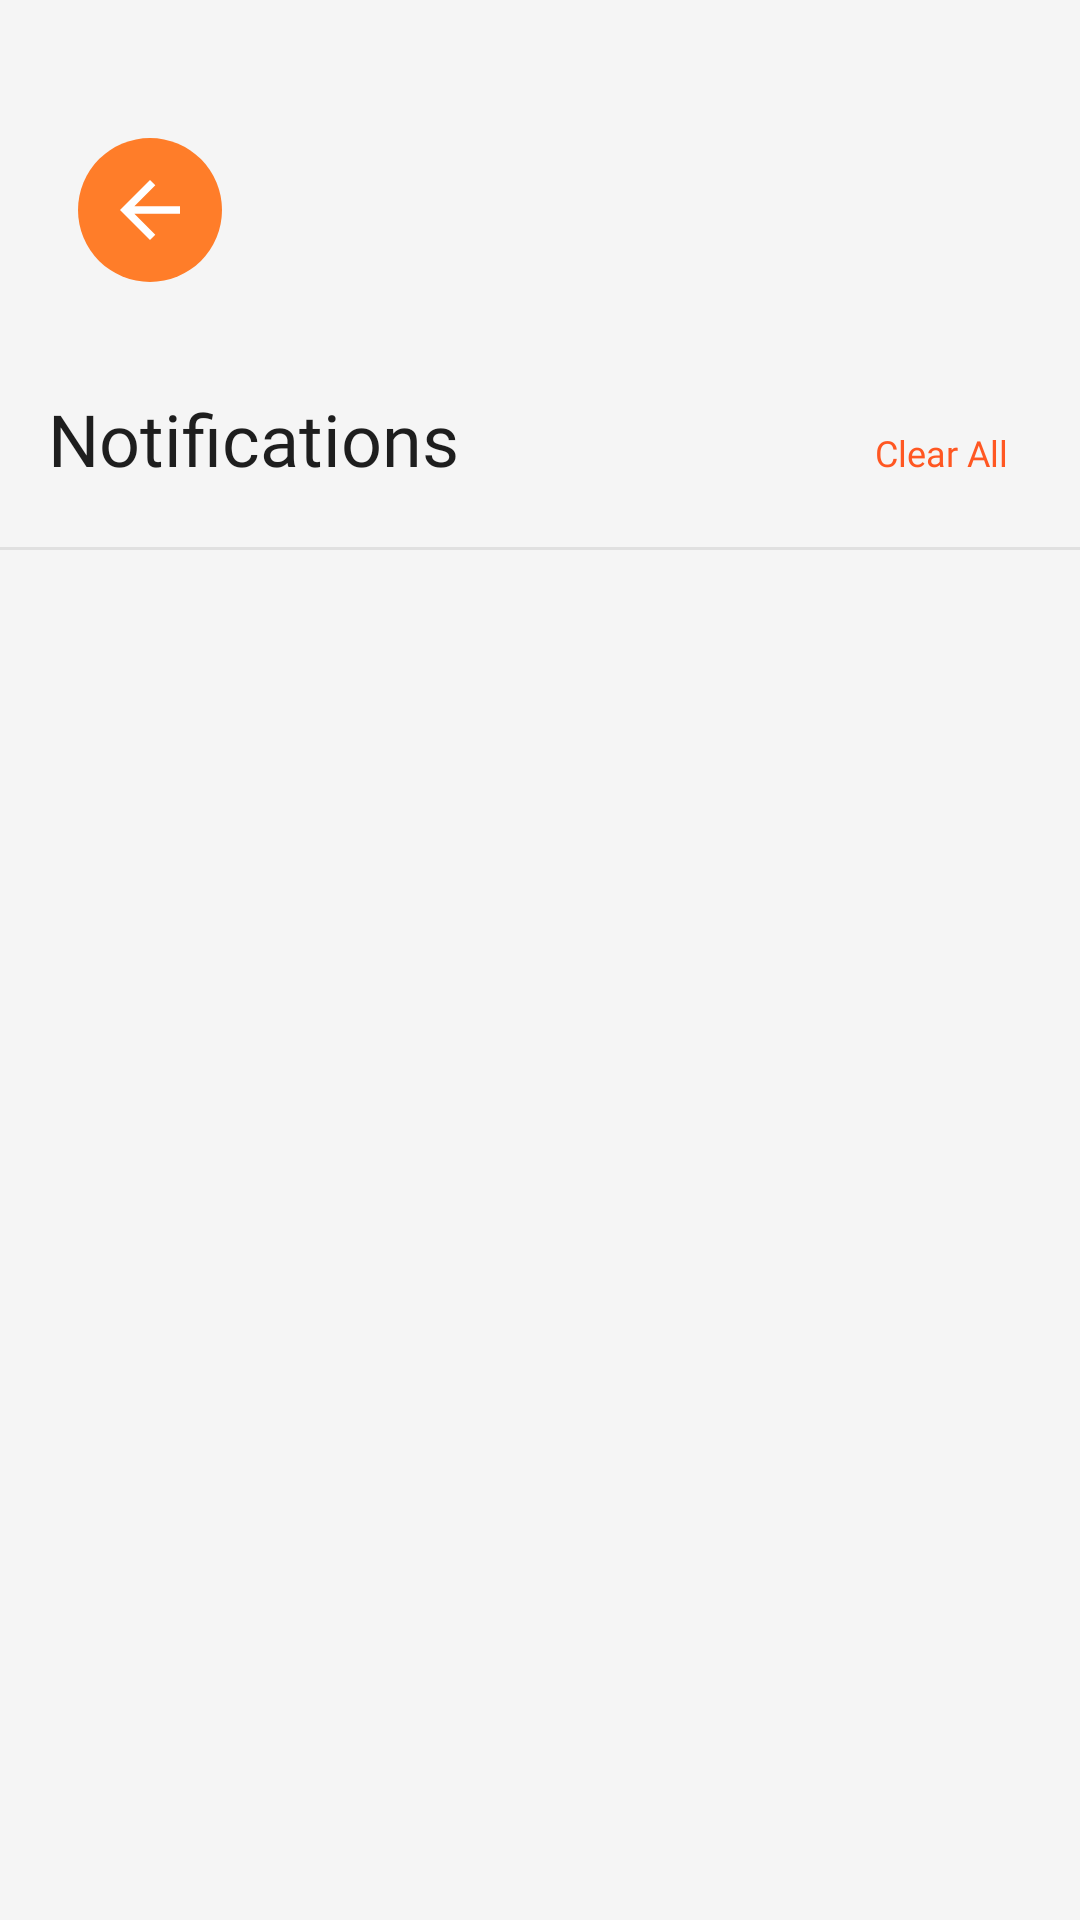

Screen size 1080px x 1920px. Icon name, then its center in pixels as point (x, y):
Go back: point (150, 210)
